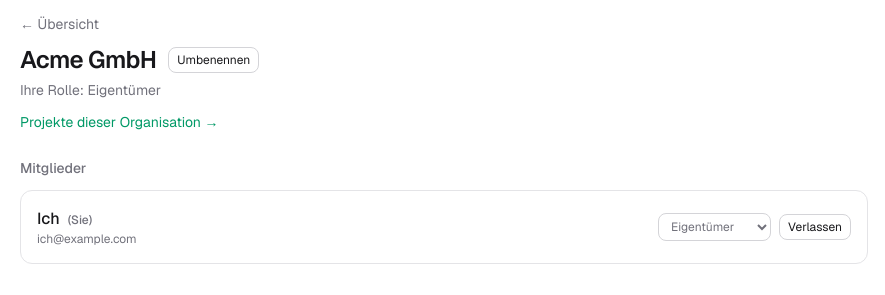
Scenario: Organisationsdetailseite › Umbenennen › verwirft die Eingabe beim Abbrechen
Click the button "Umbenennen" at coordinates (214, 60), box [168, 47, 259, 73]
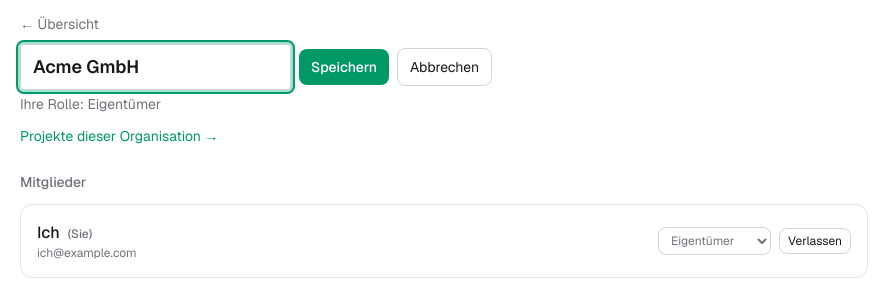
Replace the text in the field named "Name der Organisation" with "Verworfen" at coordinates (156, 67), box [20, 44, 291, 90]
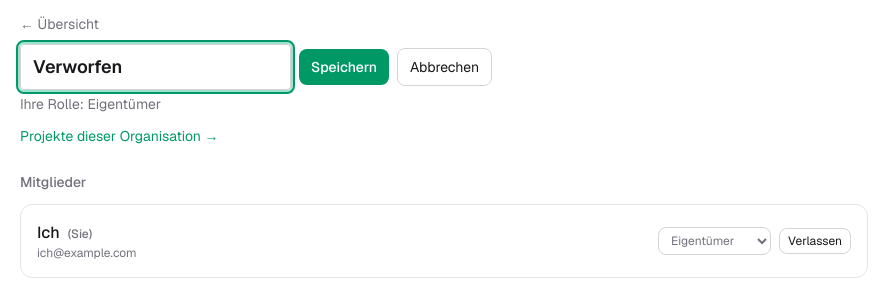
Click the button "Abbrechen" at coordinates (445, 67), box [397, 48, 492, 86]
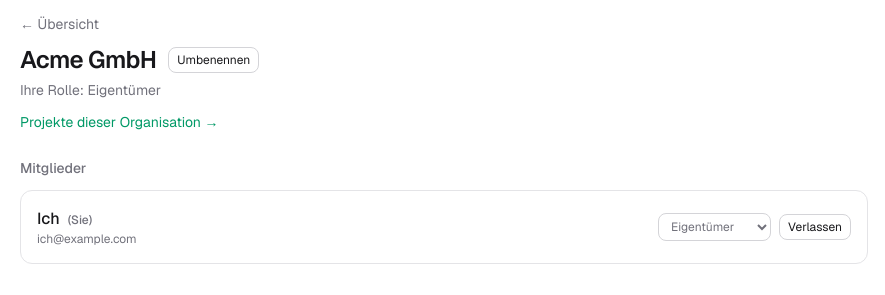
Click the button "Umbenennen" at coordinates (214, 60), box [168, 47, 259, 73]
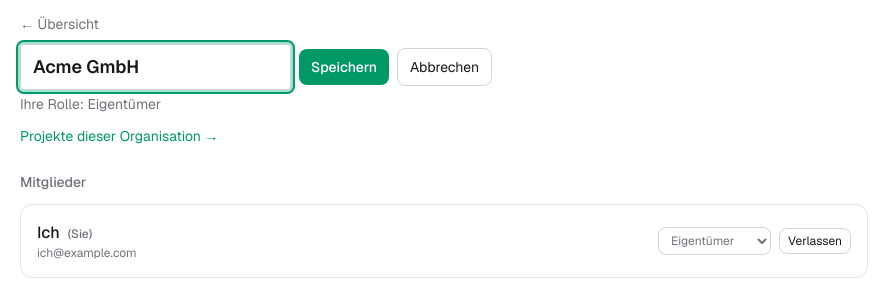
Expected: the field named "Name der Organisation" holds "Acme GmbH", [20, 44, 291, 90]
